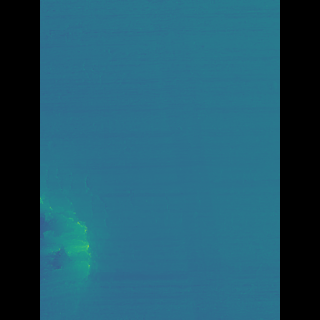Loch: (69, 168, 152, 305)
